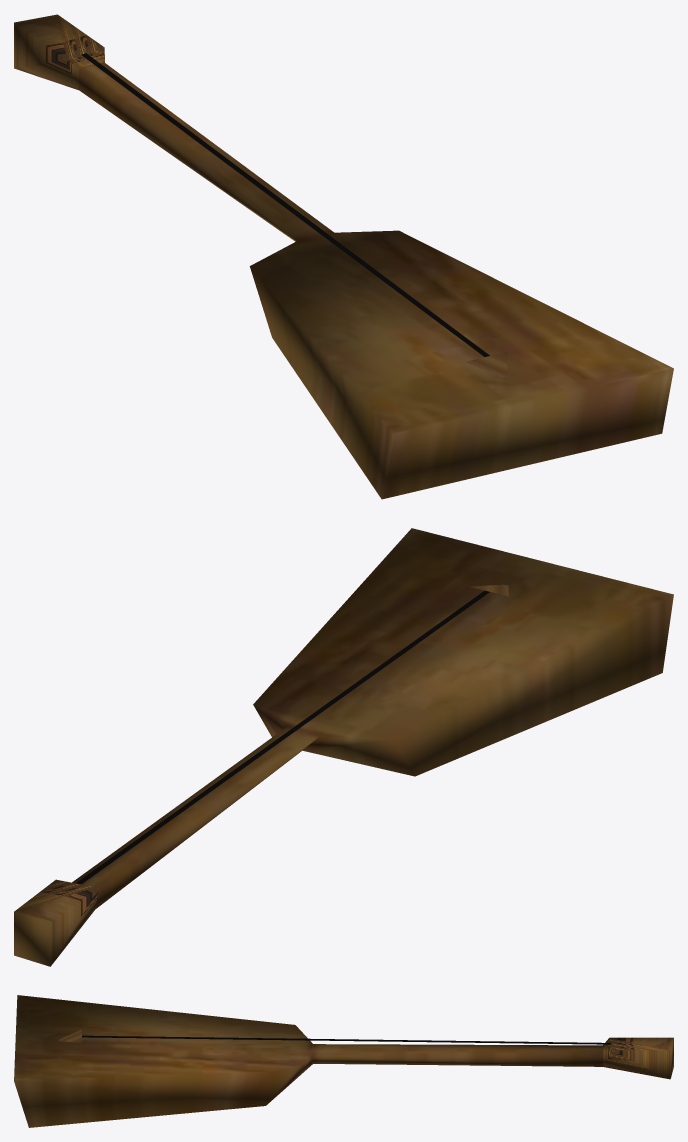
Rendered from ITMI_IE_CELLO.glb.
3 renders of one model, top to bottom at view 1: azimuth 30°, elevation 25°; view 2: azimuth 150°, elevation 25°; view 3: azimuth 270°, elevation 25°, orthographic. The views are drawn at different scales.
Visible parts, largest first — view 1: Mesh; view 2: Mesh; view 3: Mesh.
Part boxes in pixels (left/top/right/bottom): Mesh: left=14, top=14, right=673, bottom=499; Mesh: left=14, top=528, right=673, bottom=966; Mesh: left=14, top=995, right=673, bottom=1127.
Size of the model in its own units: 0.4208 by 0.1144 by 1.36.
2 materials, 2 textured.
